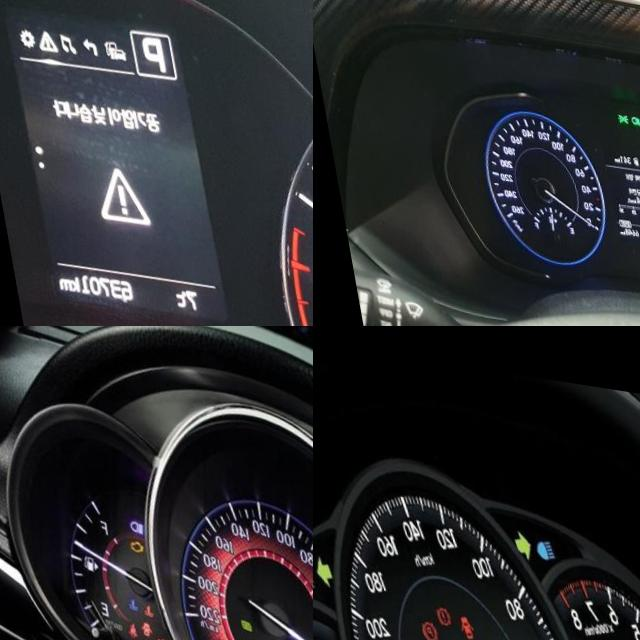High Engine Coolant Temperature: (128, 598, 140, 611)
Low beam: (623, 105, 634, 116)
Seat Belt: (473, 628, 490, 640), (113, 618, 123, 634)
SideLamp: (609, 103, 622, 114)
